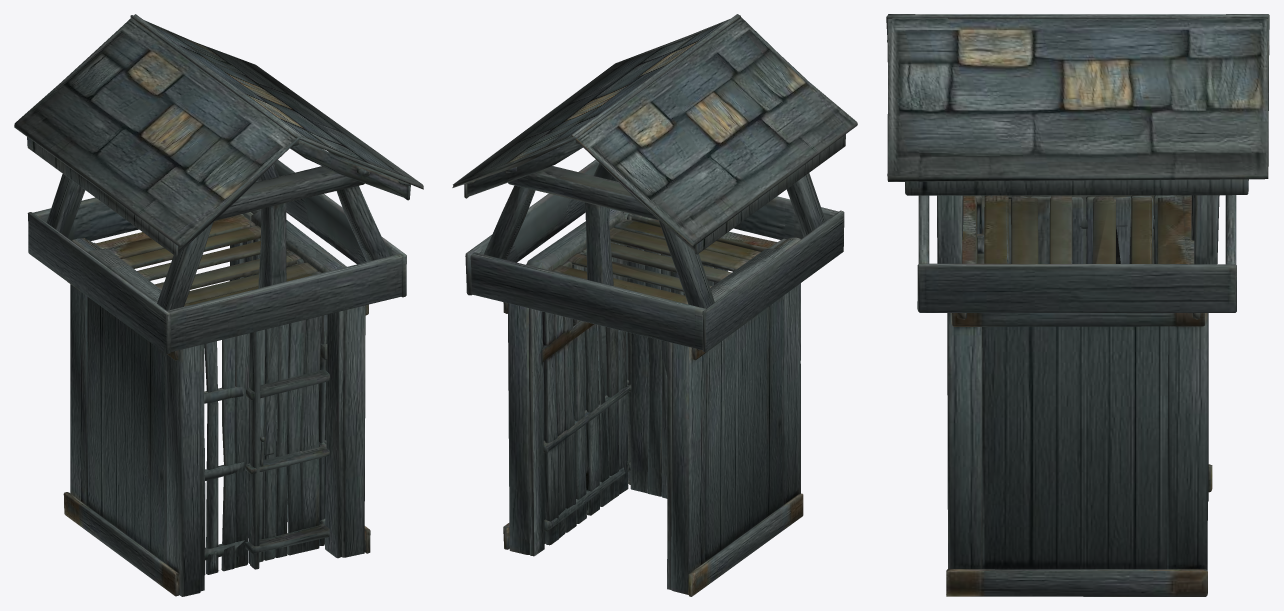
Rendered from degirmen_cephe.glb.
3 renders of one model, left to right at view 1: azimuth 30°, elevation 25°; view 2: azimuth 150°, elevation 25°; view 3: azimuth 270°, elevation 25°, orthographic. The views are drawn at different scales.
Visible parts, largest first — view 1: Mesh_0; view 2: Mesh_0; view 3: Mesh_0.
Boxes of the visible parts, <box> form: Mesh_0: <box>14,14,423,596</box>; Mesh_0: <box>452,14,857,596</box>; Mesh_0: <box>886,14,1269,596</box>.
Size of the model in its own units: 0.5579 by 1 by 0.6589.
Materials: 1 (1 with a texture image).
